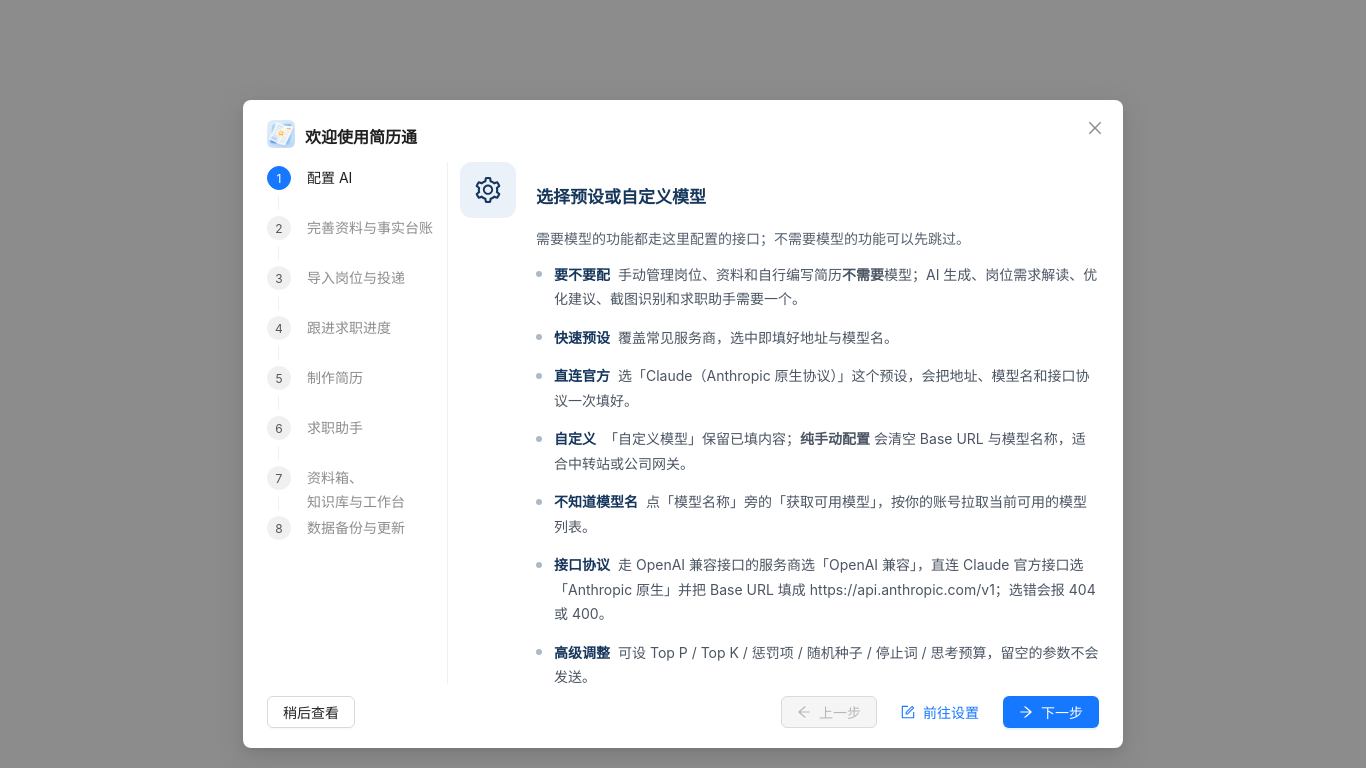
Test case: UserGuideModal › explains how to track progress after applying
Step 1. Click the button "下一步" → (1051, 712), box top-left (1003, 696), bottom-right (1099, 728)
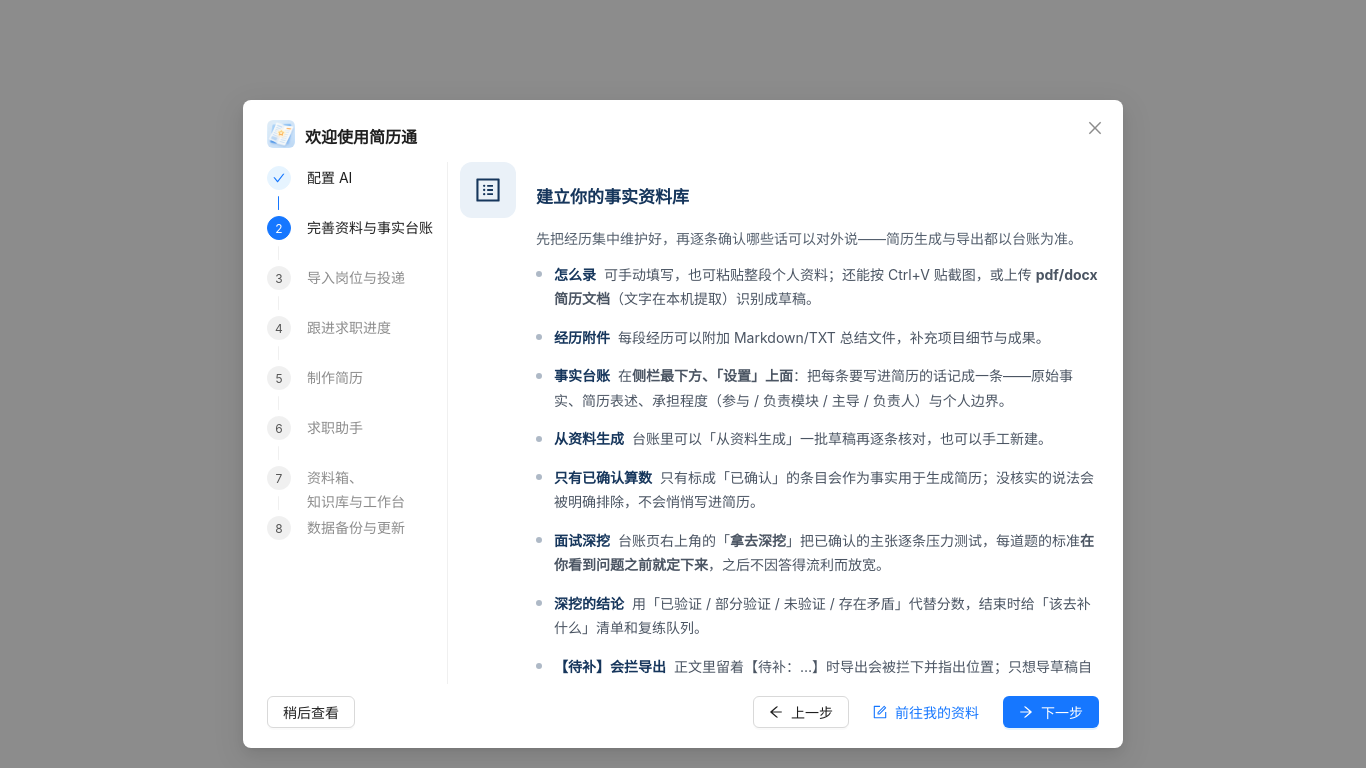
Step 2. Click the button "下一步" → (1051, 712), box top-left (1003, 696), bottom-right (1099, 728)
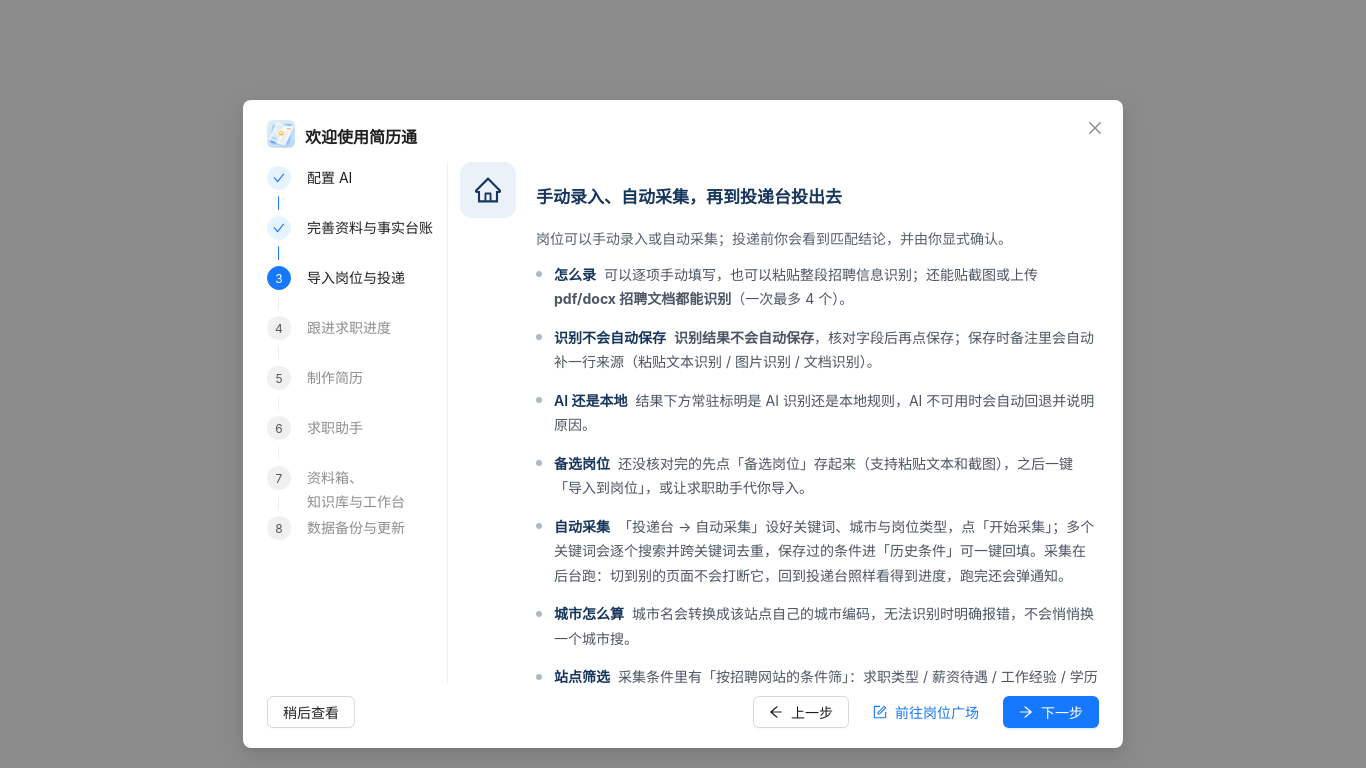
Step 3. Click the button "下一步" → (1051, 712), box top-left (1003, 696), bottom-right (1099, 728)
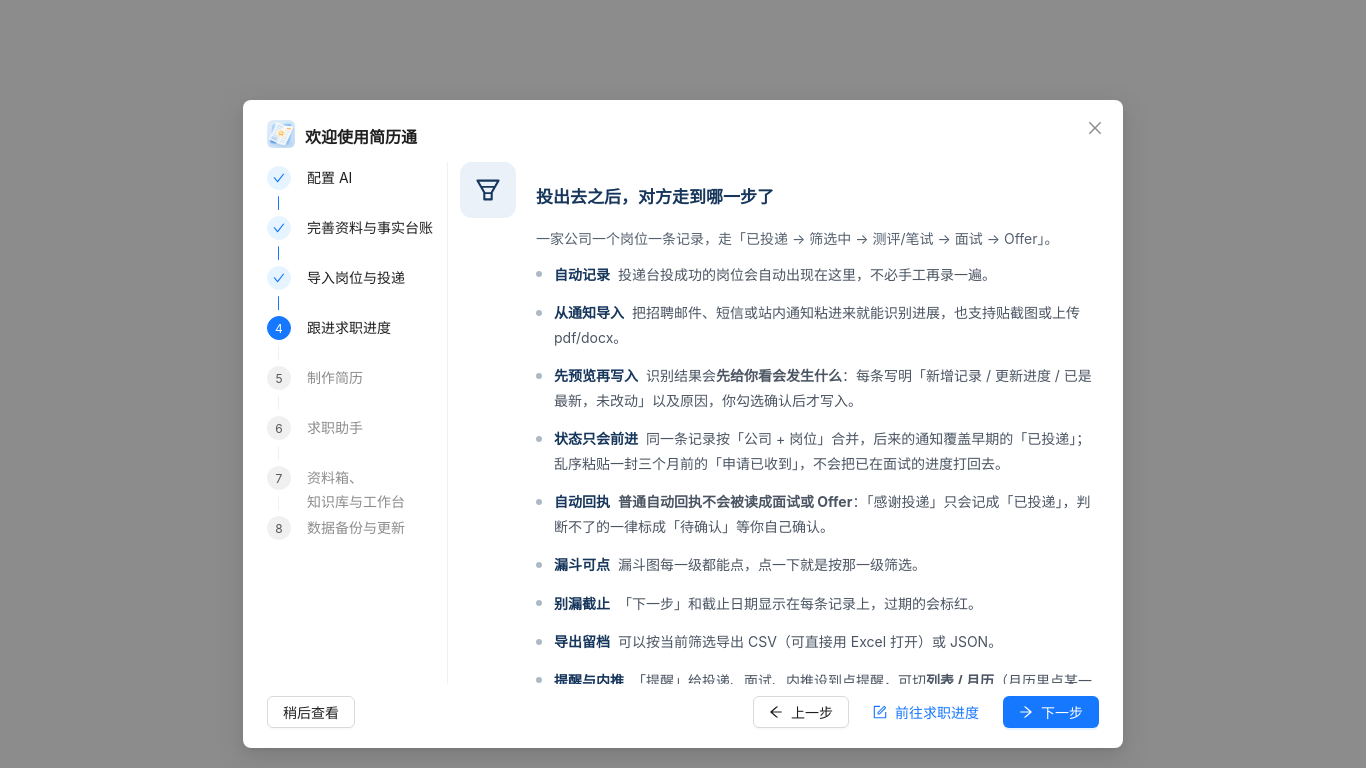
Check: the heading "投出去之后，对方走到哪一步了" is shown, box top-left (536, 187), bottom-right (774, 207)
Check: the text "普通自动回执不会被读成面试或 Offer" is shown, box top-left (618, 493), bottom-right (852, 510)
Check: the text "状态只会前进" is shown, box top-left (554, 430), bottom-right (638, 447)
